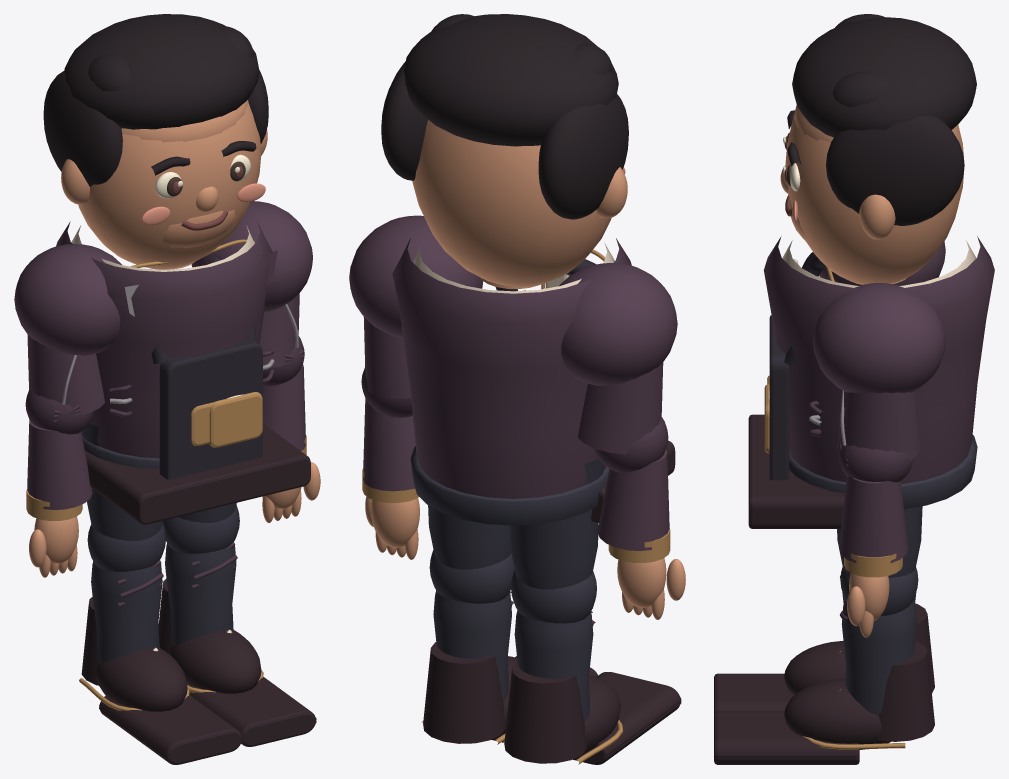
File: leo.glb
3 renders of one model, left to right at view 1: azimuth 30°, elevation 25°; view 2: azimuth 150°, elevation 25°; view 3: azimuth 270°, elevation 25°, orthographic. The views are drawn at different scales.
Visible parts, largest first — view 1: Tailored coat, Hair cap, Face, Tool belt, Apron panel, Shoulder -1, Sole -1, Trousers calf 1, Trousers calf -1, Side hair -1, Shoulder 1, Sole 1 (+27 smaller); view 2: Tailored coat, Hair cap, Face, Shoulder -1, Side hair -1, Shoulder 1, Boot shaft -1, Boot shaft 1, Trousers thigh -1, Trouser waistband, Sleeve forearm -1, Sleeve upper -1 (+20 smaller); view 3: Tailored coat, Hair cap, Shoulder 1, Side hair 1, Face, Tool belt, Sole 1, Trousers calf 1, Sleeve forearm 1, Leather toe 1, Sleeve upper 1, Boot shaft 1 (+17 smaller).
Boxes of the visible parts, left/top/right/bottom form: Tailored coat: left=56, top=221, right=272, bottom=458; Hair cap: left=64, top=14, right=259, bottom=129; Face: left=78, top=103, right=261, bottom=268; Tool belt: left=85, top=423, right=310, bottom=524; Apron panel: left=159, top=338, right=262, bottom=479; Shoulder -1: left=14, top=244, right=121, bottom=355; Sole -1: left=99, top=695, right=242, bottom=764; Trousers calf 1: left=165, top=543, right=236, bottom=644; Trousers calf -1: left=91, top=561, right=162, bottom=662; Side hair -1: left=43, top=71, right=122, bottom=186; Shoulder 1: left=191, top=201, right=312, bottom=312; Sole 1: left=186, top=677, right=316, bottom=746; Tailored coat: left=392, top=238, right=631, bottom=498; Hair cap: left=404, top=14, right=618, bottom=146; Face: left=412, top=119, right=611, bottom=286; Shoulder -1: left=559, top=263, right=677, bottom=385; Side hair -1: left=538, top=94, right=628, bottom=219; Shoulder 1: left=349, top=215, right=483, bottom=337; Boot shaft -1: left=504, top=662, right=586, bottom=763; Boot shaft 1: left=423, top=642, right=505, bottom=743; Trousers thigh -1: left=509, top=458, right=604, bottom=589; Trouser waistband: left=410, top=446, right=609, bottom=525; Sleeve forearm -1: left=597, top=449, right=669, bottom=550; Sleeve upper -1: left=578, top=362, right=663, bottom=454; Tailored coat: left=763, top=236, right=994, bottom=483; Hair cap: left=792, top=17, right=976, bottom=137; Shoulder 1: left=813, top=283, right=945, bottom=393; Side hair 1: left=826, top=116, right=964, bottom=225; Face: left=785, top=113, right=964, bottom=284; Tool belt: left=748, top=414, right=844, bottom=528; Sole 1: left=714, top=711, right=859, bottom=764; Trousers calf 1: left=841, top=600, right=916, bottom=715; Sleeve forearm 1: left=839, top=476, right=908, bottom=563; Leather toe 1: left=784, top=678, right=890, bottom=749; Sleeve upper 1: left=837, top=390, right=921, bottom=461; Boot shaft 1: left=877, top=641, right=934, bottom=741.
Size of the model in its own units: 1.24 by 2.72 by 0.9914.
